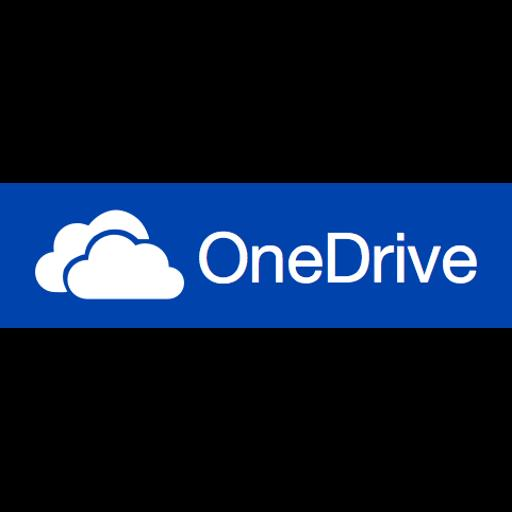Microsoft OneDrive: (0, 183, 512, 328)
